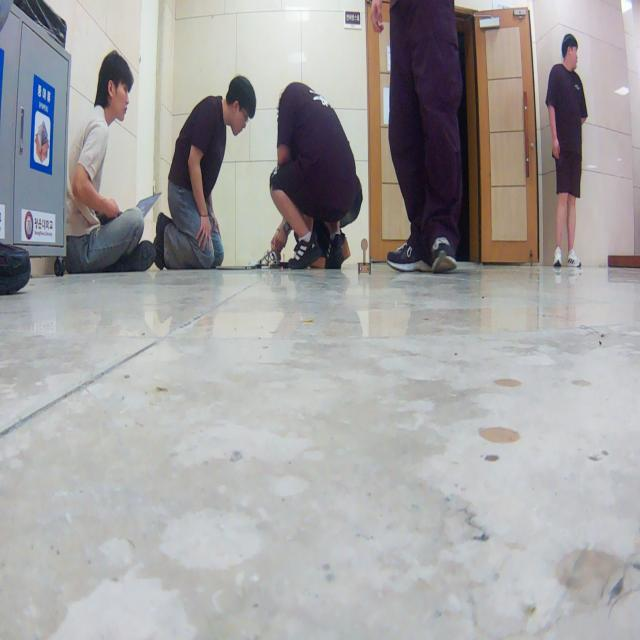target: (358, 238, 372, 276)
